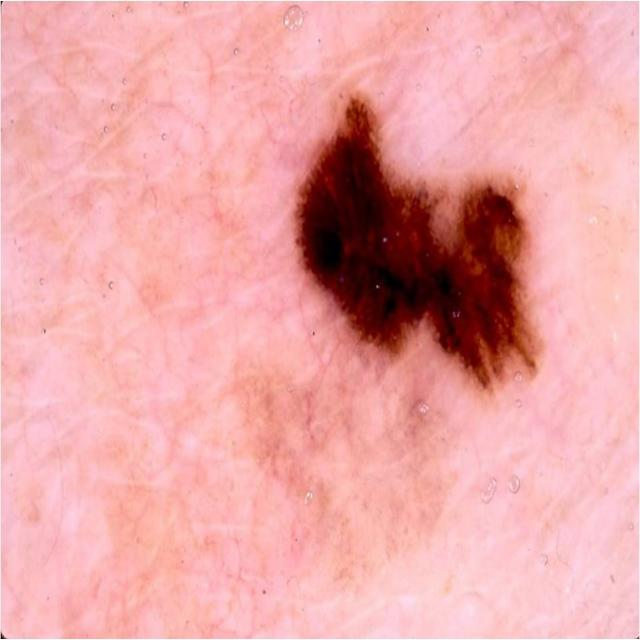Melanoma: (288, 83, 559, 391)
